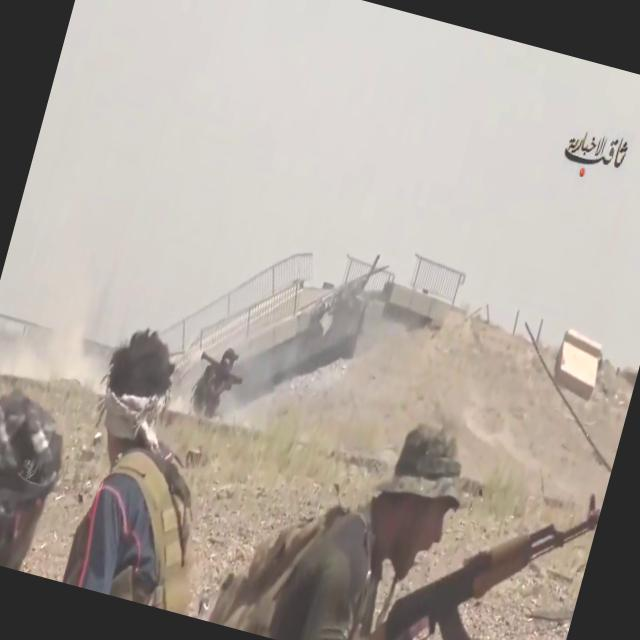long weapon: (334, 441, 603, 639)
